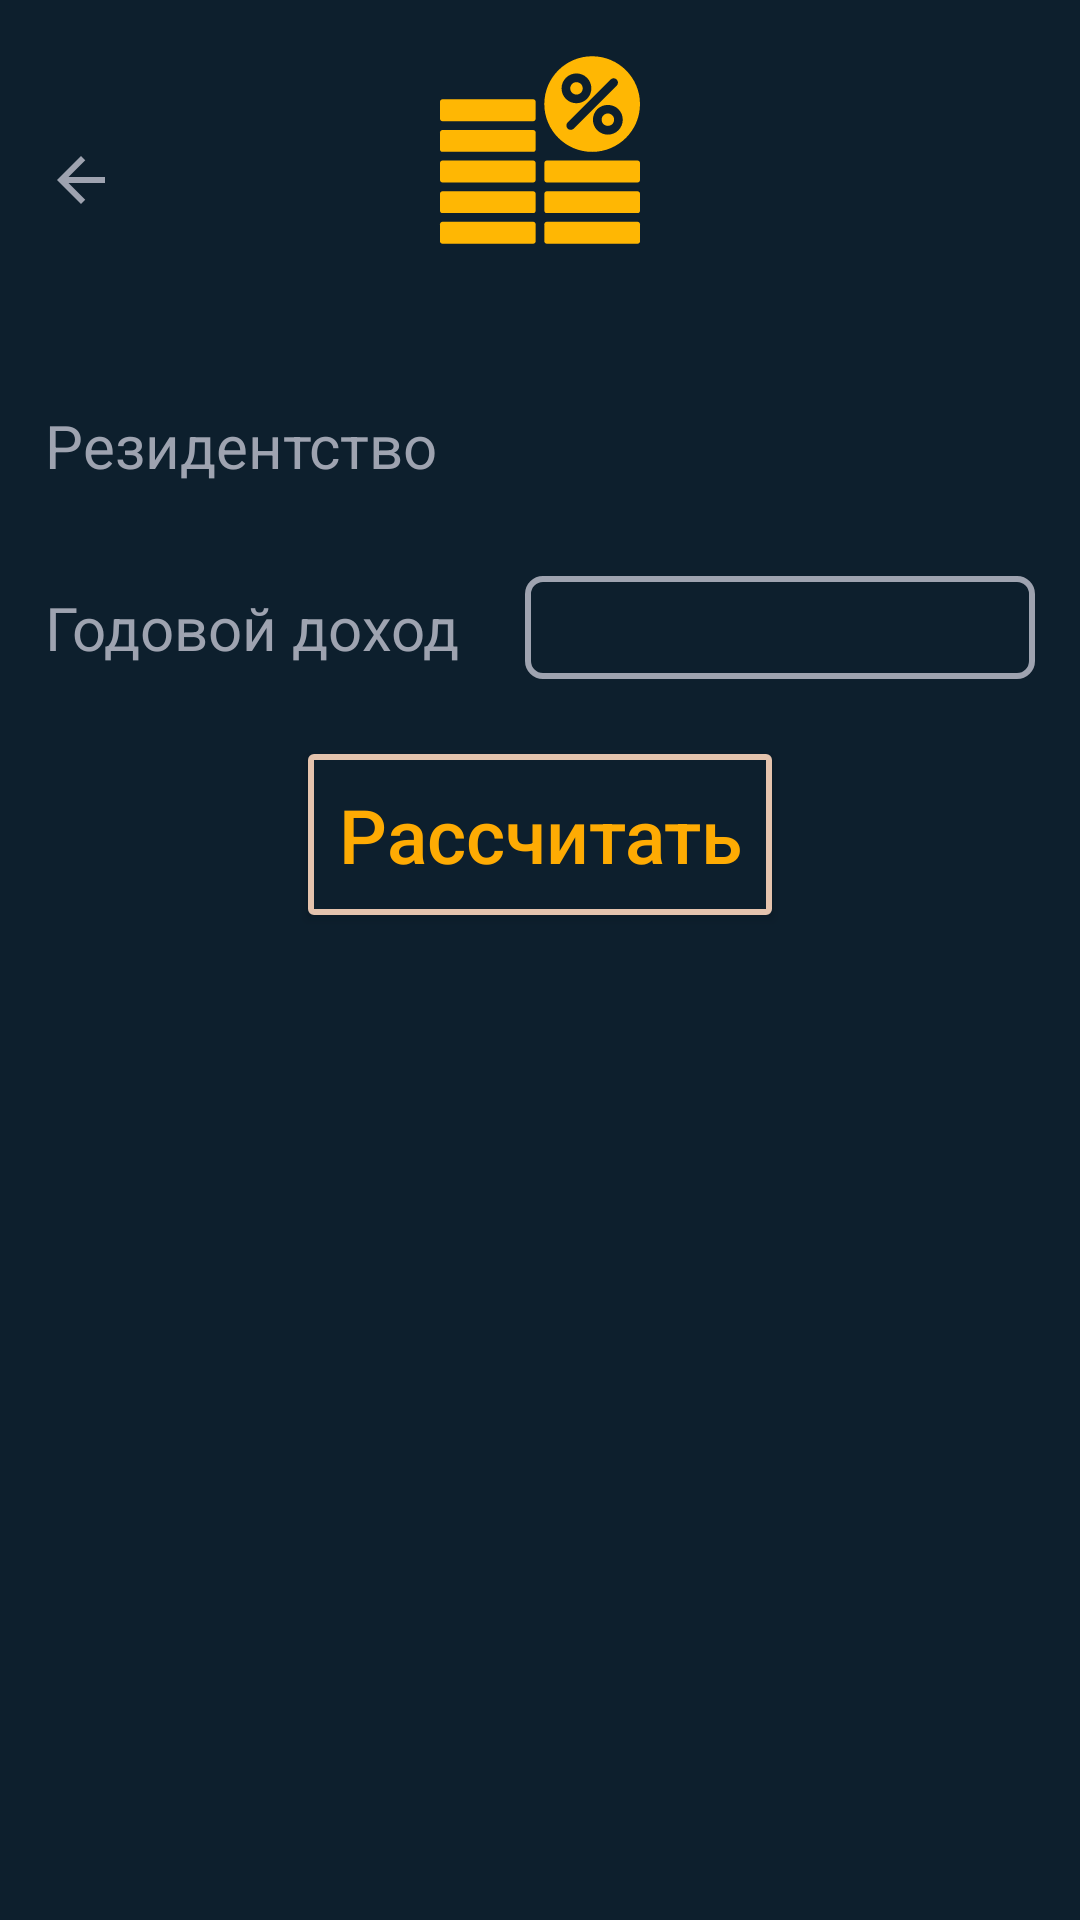

Named icons in this screenshot (1080w x 1920h) and their bounding boxes, bbox=[x1, y1, x2, y2]:
arrow back hovered: bbox=[57, 156, 105, 204]
income: bbox=[440, 56, 640, 244]
